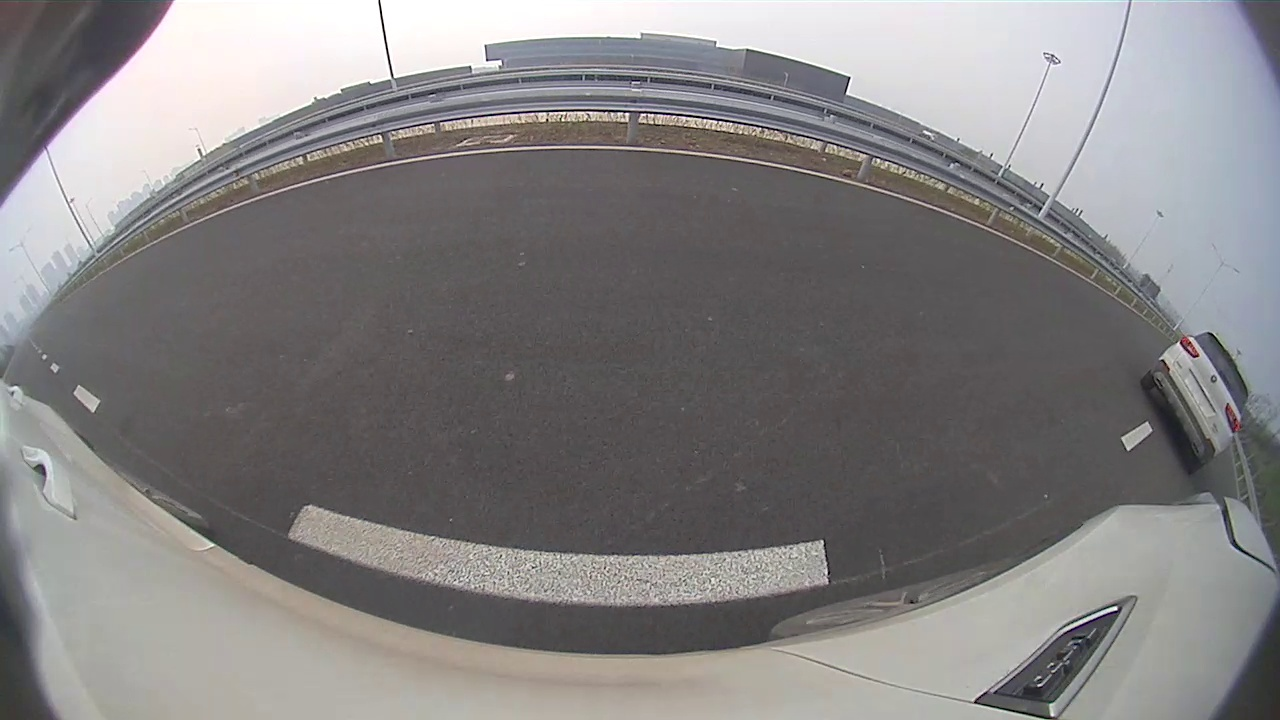car: (1139, 331, 1250, 472)
